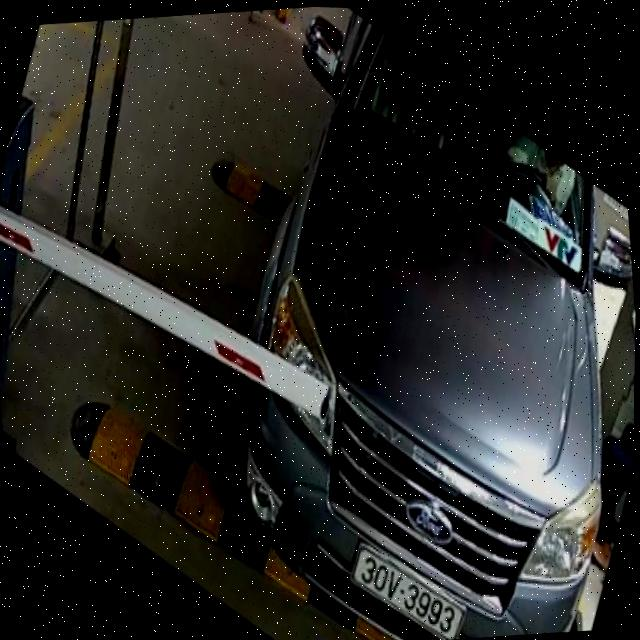car: (199, 5, 640, 640)
plate: (342, 532, 470, 640)
